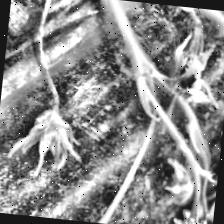Gray Mold: (6, 104, 85, 180)
